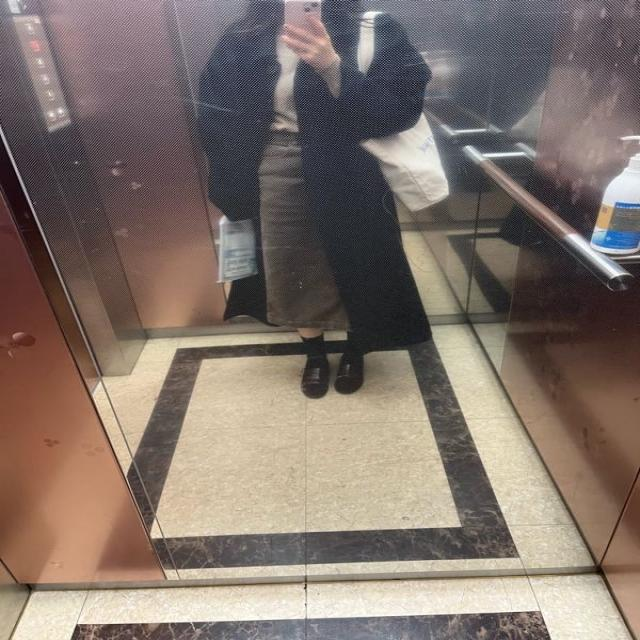coat: (202, 0, 430, 357)
skirt: (255, 128, 349, 334)
